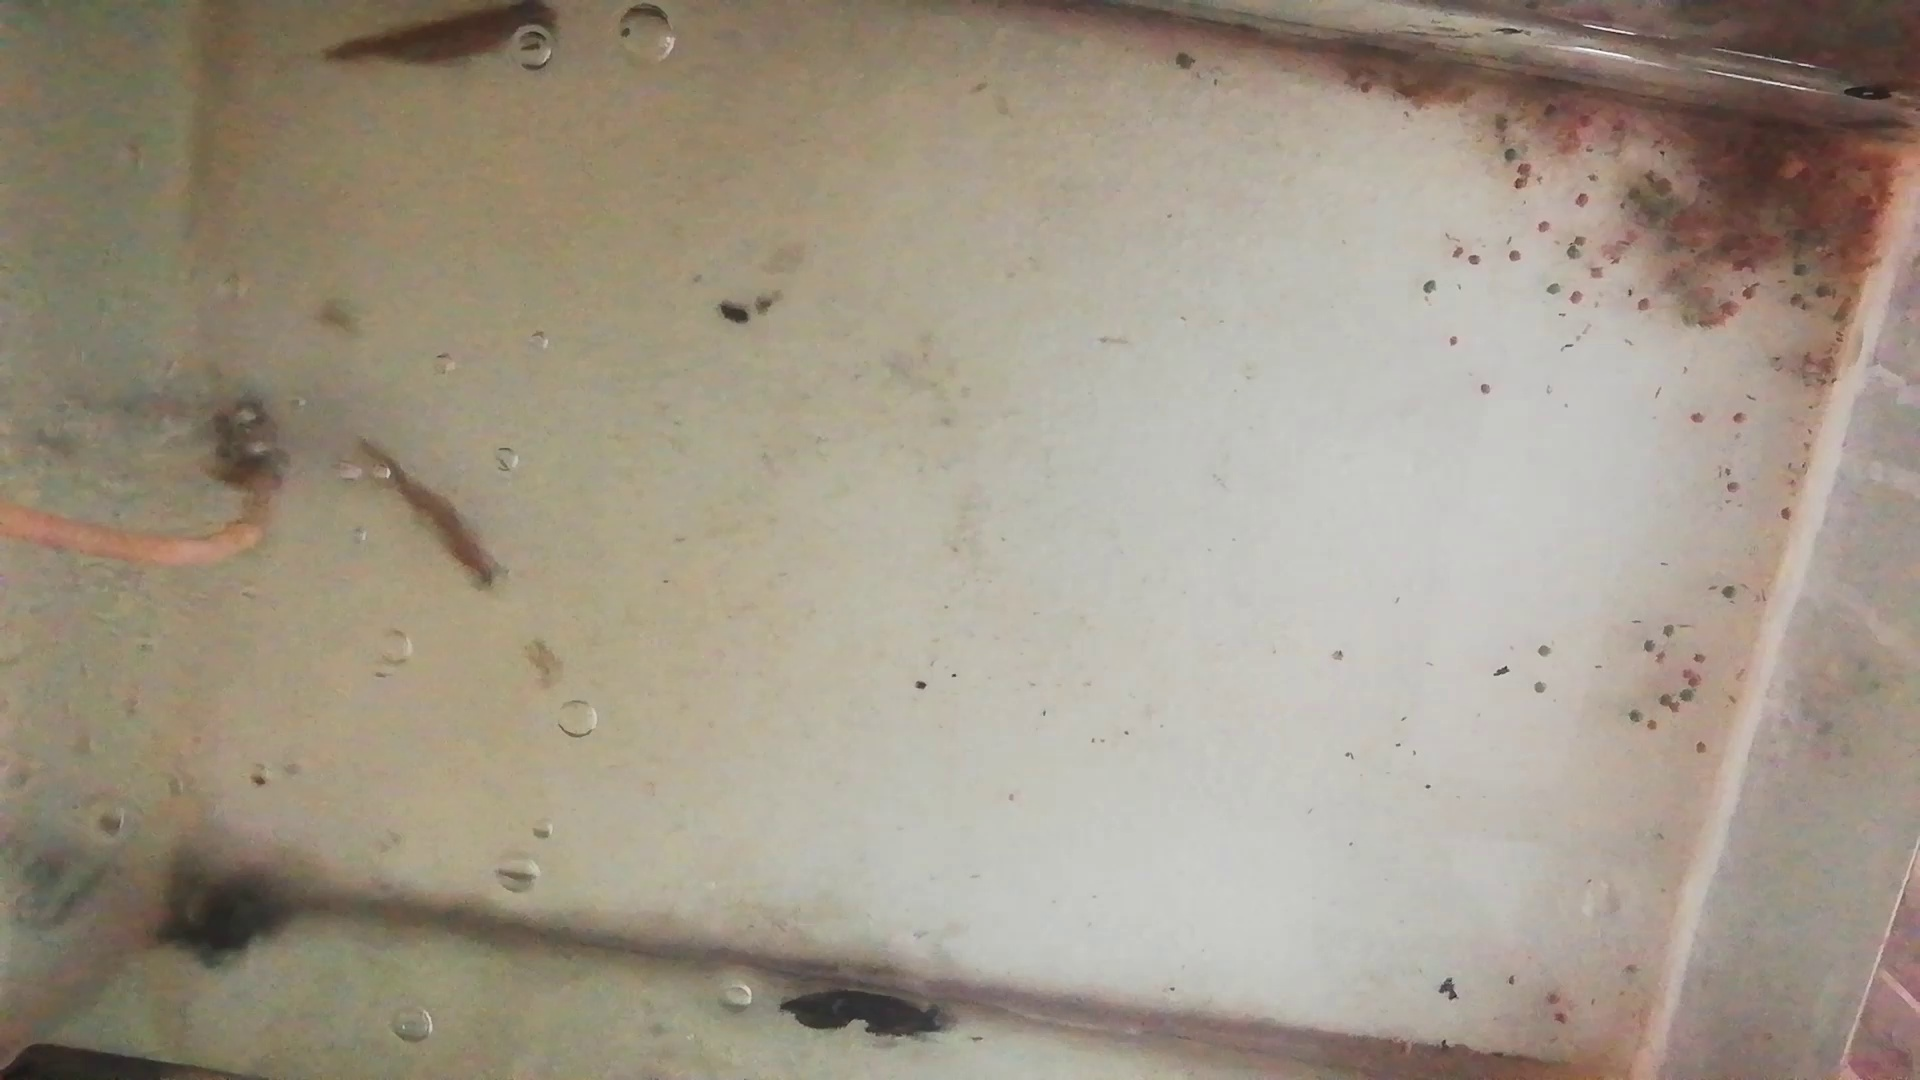fish: (357, 433, 514, 597), (319, 3, 560, 76)
